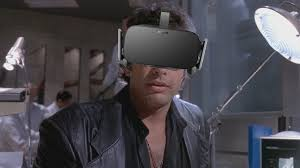oculus: (120, 23, 209, 71)
